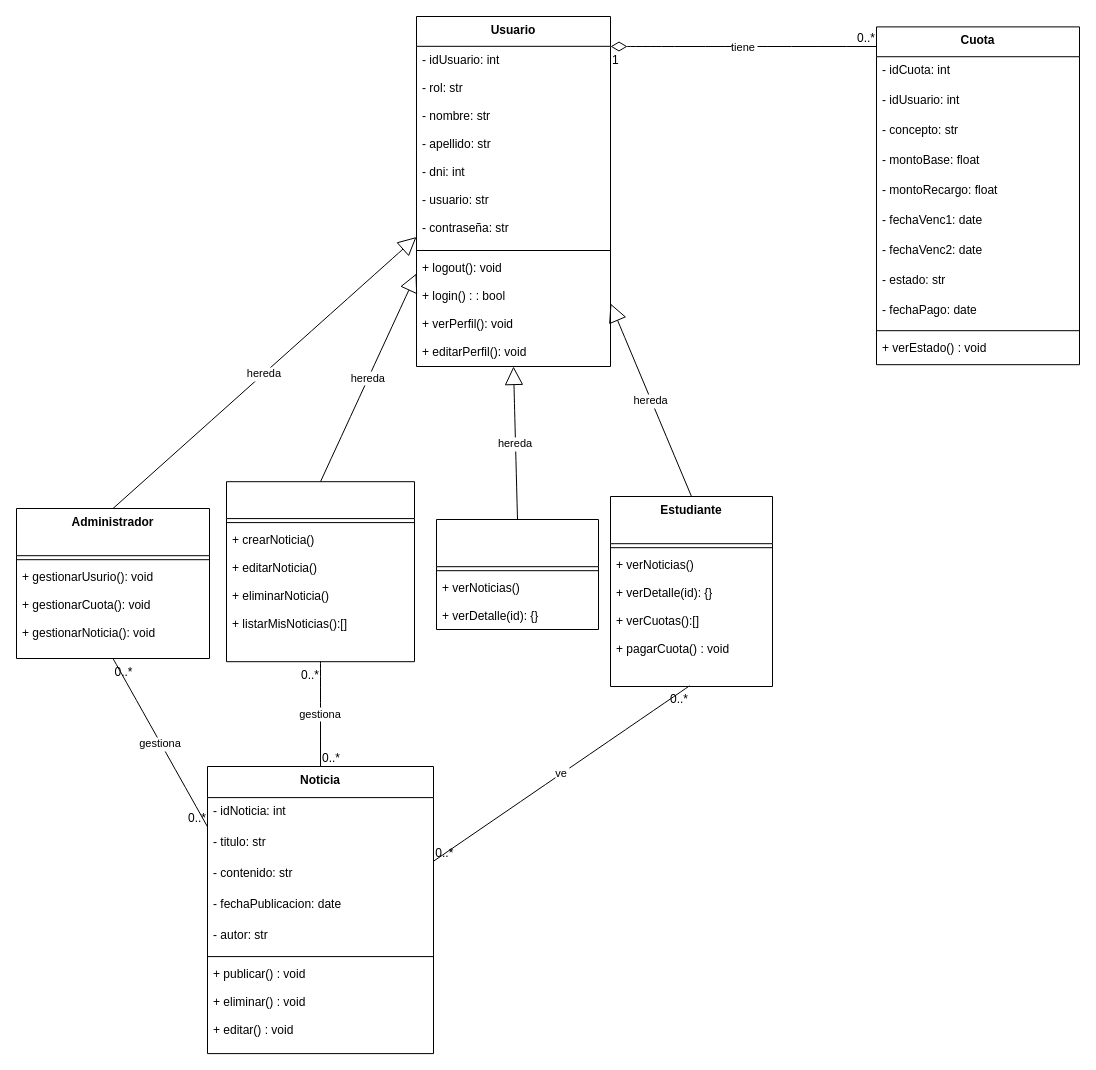
The diagram is 1096 pixels wide and 1070 high, and some of its shapes have lost their labels. The shapes that lost their labels are listed below. From the top down, each one's box as (x1, y1, x2, y2) in pixels, then its label:
(226, 481, 414, 662): Docente
(436, 518, 598, 630): Visitante
